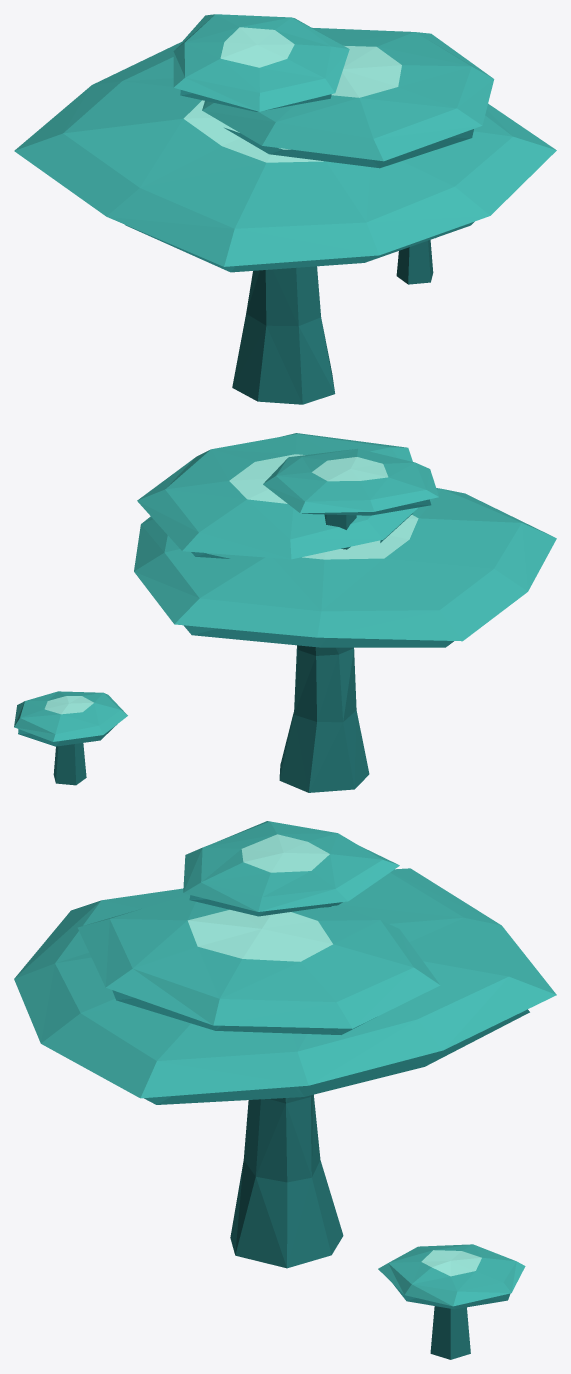
Rendered from coral_mushroom_teal.fbx.
3 views of the same model, one above another, from view 1: azimuth 30°, elevation 25°; view 2: azimuth 150°, elevation 25°; view 3: azimuth 270°, elevation 25° (orthographic). The views are drawn at different scales.
Parts seen in each view (by area): view 1: coral_mushroom_teal; view 2: coral_mushroom_teal; view 3: coral_mushroom_teal.
Part boxes in pixels (left/top/right/bottom): coral_mushroom_teal: left=14, top=14, right=556, bottom=404; coral_mushroom_teal: left=14, top=433, right=556, bottom=792; coral_mushroom_teal: left=14, top=821, right=556, bottom=1359.
Size of the model in its own units: 1957 by 1366 by 1788.
Materials: 1 (1 with a texture image).
